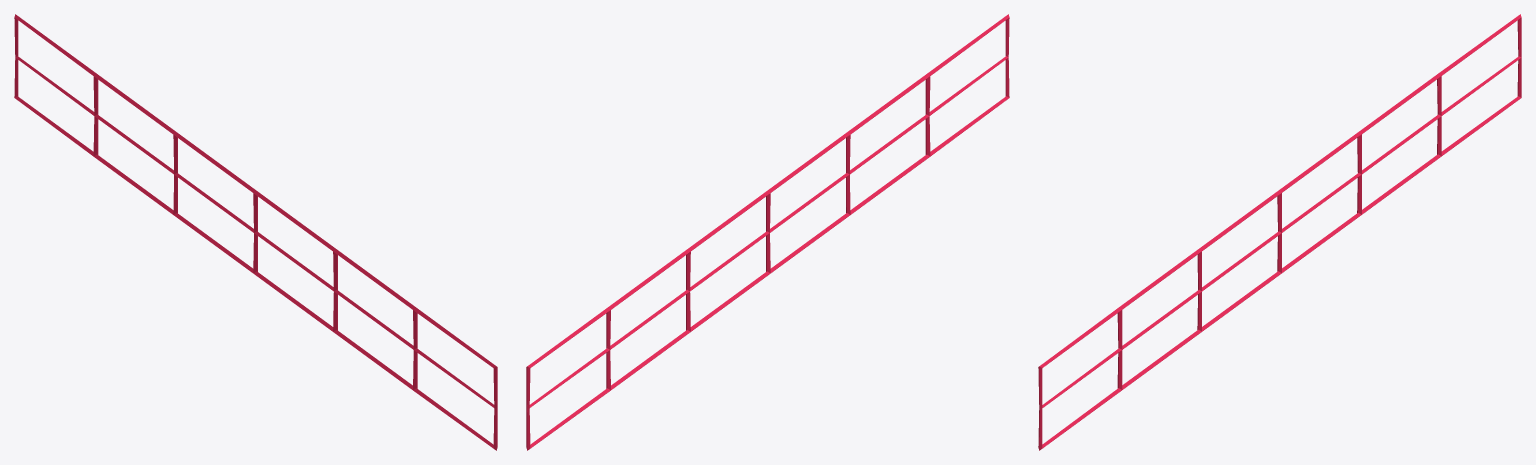
Rendered from BuildingBlock_2_roof_wireframe.fbx.
3 renders of one model, left to right at view 1: azimuth 30°, elevation 25°; view 2: azimuth 150°, elevation 25°; view 3: azimuth 330°, elevation 25°, orthographic.
Visible parts, largest first — view 1: BuildingBlock_2_roof_wireframe; view 2: BuildingBlock_2_roof_wireframe; view 3: BuildingBlock_2_roof_wireframe.
Part boxes in pixels (x1,y1,x2,y2): BuildingBlock_2_roof_wireframe: [14, 14, 497, 450]; BuildingBlock_2_roof_wireframe: [526, 14, 1009, 450]; BuildingBlock_2_roof_wireframe: [1038, 14, 1521, 450].
Bounding box in the file's own units: 4.2 × 72.62 × 742.
